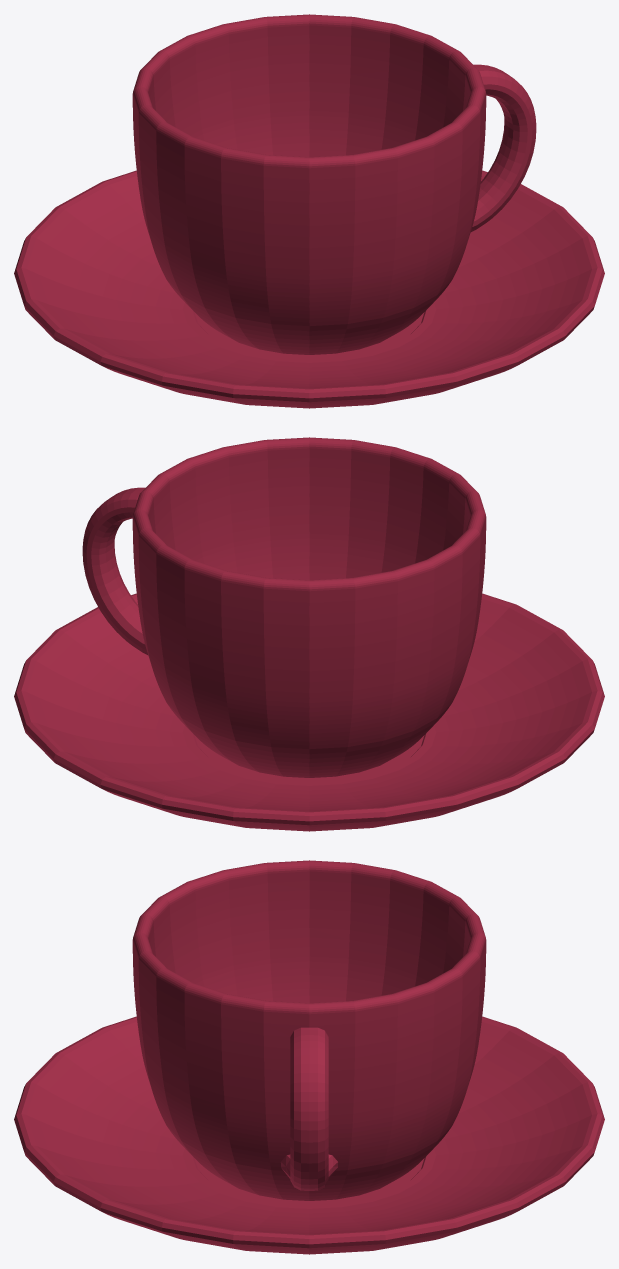
3 views of the same model, one above another, from view 1: azimuth 30°, elevation 25°; view 2: azimuth 150°, elevation 25°; view 3: azimuth 270°, elevation 25° (orthographic).
Visible parts, largest first — view 1: mesh5.001_mesh5-geometry, mesh1.001_mesh1-geometry; view 2: mesh5.001_mesh5-geometry, mesh1.001_mesh1-geometry; view 3: mesh5.001_mesh5-geometry, mesh1.001_mesh1-geometry.
Part boxes in pixels (<box>): mesh5.001_mesh5-geometry: <box>132,14,536,354</box>; mesh1.001_mesh1-geometry: <box>14,170,604,408</box>; mesh5.001_mesh5-geometry: <box>82,437,486,777</box>; mesh1.001_mesh1-geometry: <box>14,593,604,831</box>; mesh5.001_mesh5-geometry: <box>132,860,486,1200</box>; mesh1.001_mesh1-geometry: <box>14,1016,604,1254</box>.
Bounding box in the file's own units: 0.6713 × 0.3142 × 0.6713.
